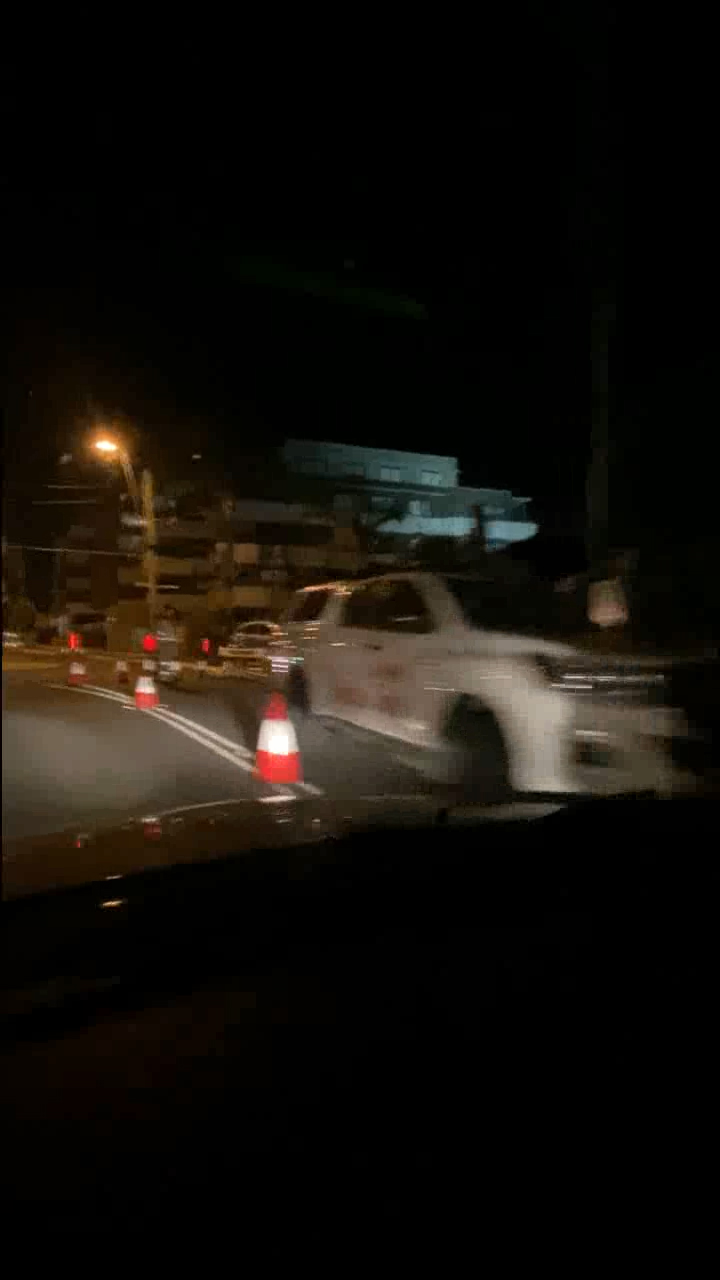road cone: (255, 692, 300, 795), (138, 672, 162, 708), (62, 655, 87, 688)
